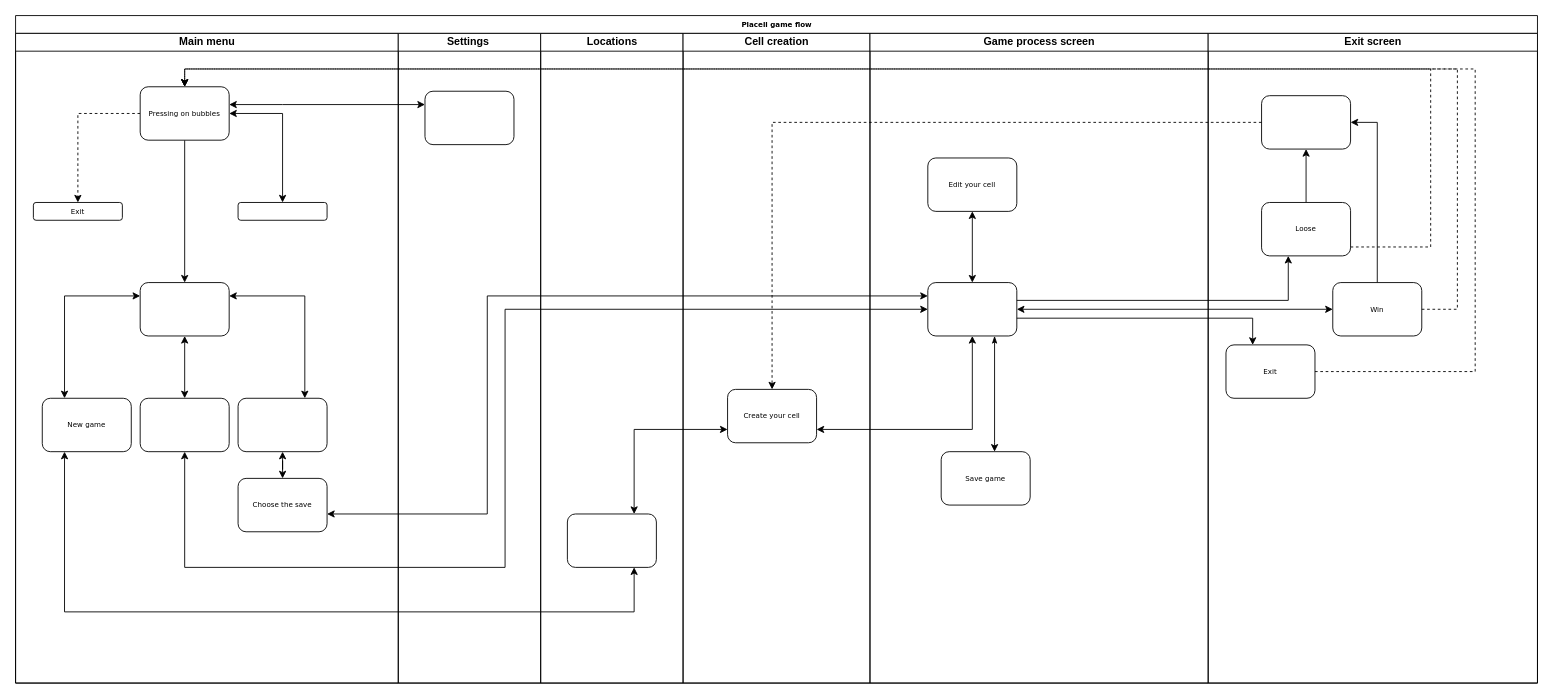
This 1553x699 diagram has some shape labels left out. The centre of each missing label's shape, as x and y in pixels:
Choose the location: point 611,540
Continue: point 184,424
Edditing settings: point 469,117
Load game: point 282,424
Map: point 972,309
Play: point 184,309
Restart: point 1306,122
Stats: point 282,211
